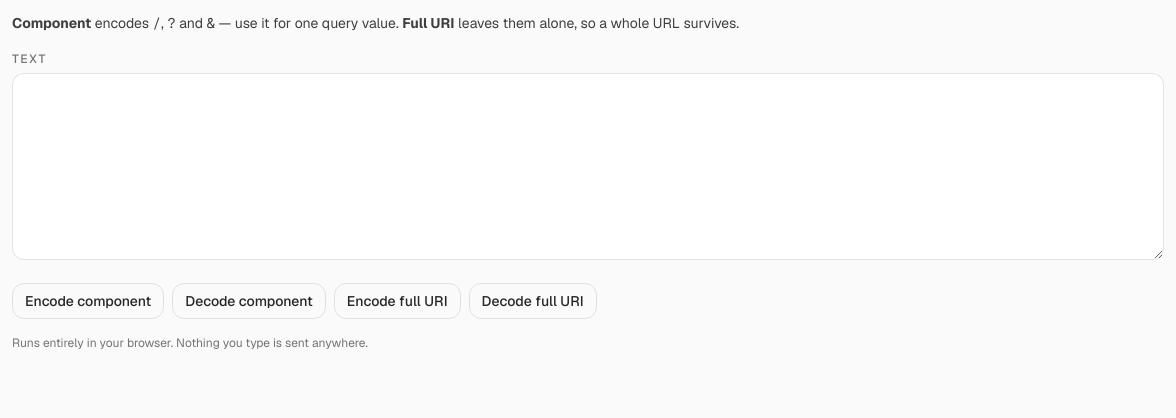
Test: UrlEncoder › reports a stray percent-escape instead of crashing
The image size is (1176, 418).
Type "%E0%A4%A" into the text box labelled "Text" at (588, 166), box [12, 73, 1164, 260]
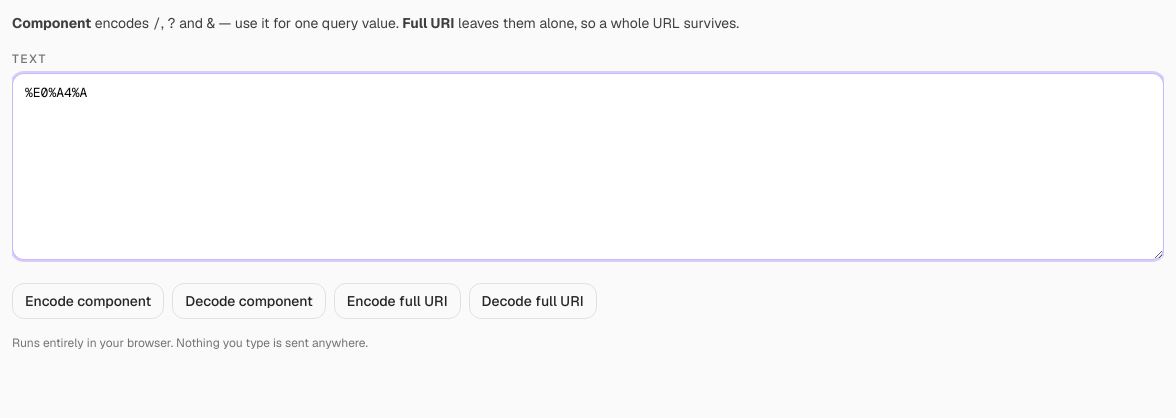
Click the button "Decode component" at (249, 301), box [172, 283, 326, 319]
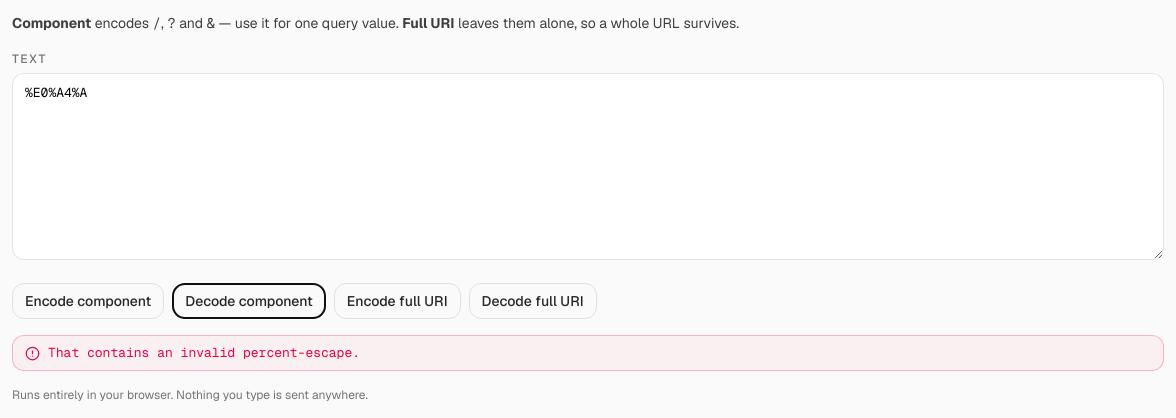
Expected: the message shows "invalid percent-escape", [48, 344, 360, 361]
